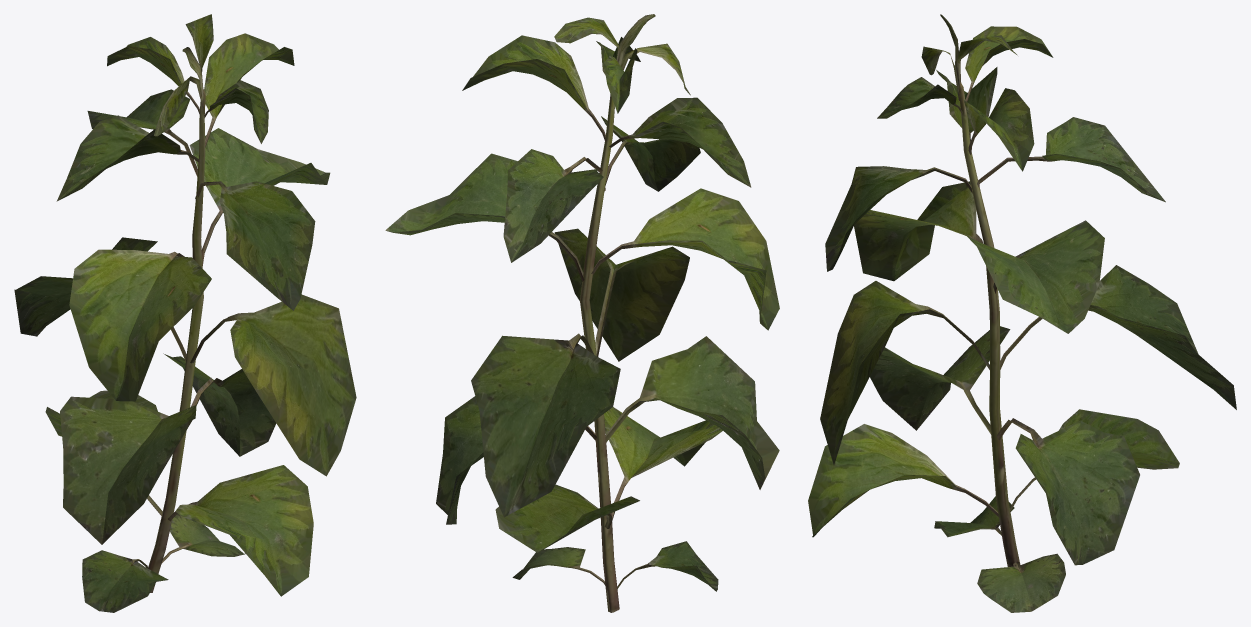
Rendered from medium_plant.glb.
3 views of the same model, side by side, from view 1: azimuth 30°, elevation 25°; view 2: azimuth 150°, elevation 25°; view 3: azimuth 270°, elevation 25° (orthographic).
Visible parts, largest first — view 1: nettle_plant_medium_a_LOD2; view 2: nettle_plant_medium_a_LOD2; view 3: nettle_plant_medium_a_LOD2.
Part boxes in pixels (x1,y1,x2,y2): nettle_plant_medium_a_LOD2: (14, 14, 356, 612); nettle_plant_medium_a_LOD2: (385, 14, 779, 612); nettle_plant_medium_a_LOD2: (808, 14, 1236, 612).
Size of the model in its own units: 0.3838 by 0.6512 by 0.4441.
Materials: 1 (1 with a texture image).
